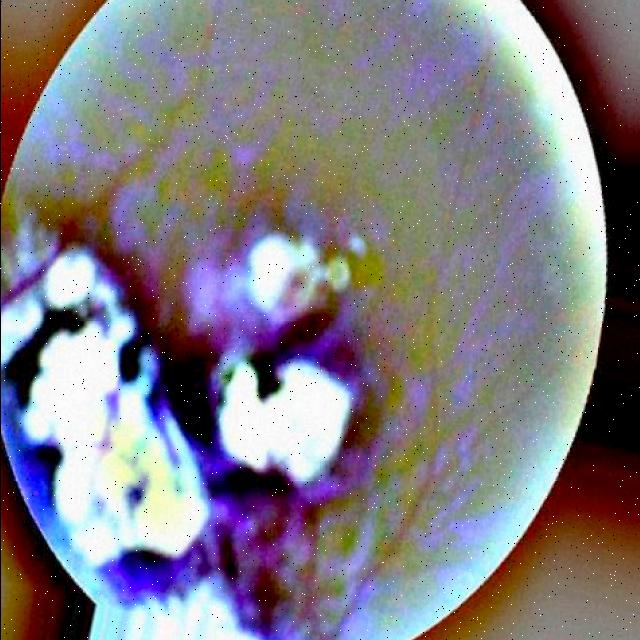Nerves: (278, 535, 371, 640)
